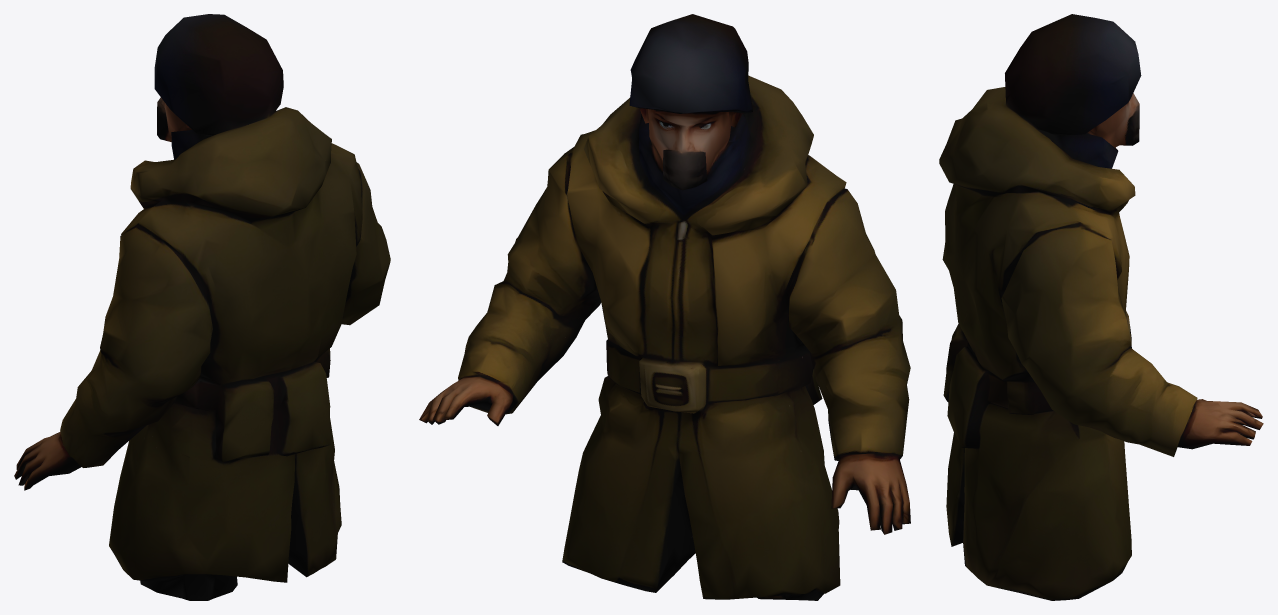
The model's file is control_console.glb.
The picture shows the model from 3 angles, left to right: view 1: azimuth 30°, elevation 25°; view 2: azimuth 150°, elevation 25°; view 3: azimuth 270°, elevation 25°; orthographic projection. The views are drawn at different scales.
Parts seen in each view (by area): view 1: tripo_node_88bab4a9-8598-4121-8045-fd88b9b79a1f; view 2: tripo_node_88bab4a9-8598-4121-8045-fd88b9b79a1f; view 3: tripo_node_88bab4a9-8598-4121-8045-fd88b9b79a1f.
Part boxes in pixels (x1,y1,x2,y2): tripo_node_88bab4a9-8598-4121-8045-fd88b9b79a1f: (14, 14, 390, 600); tripo_node_88bab4a9-8598-4121-8045-fd88b9b79a1f: (419, 14, 910, 600); tripo_node_88bab4a9-8598-4121-8045-fd88b9b79a1f: (939, 14, 1263, 600).
Size of the model in its own units: 0.7359 by 1 by 0.5569.
1 material, 1 textured.
